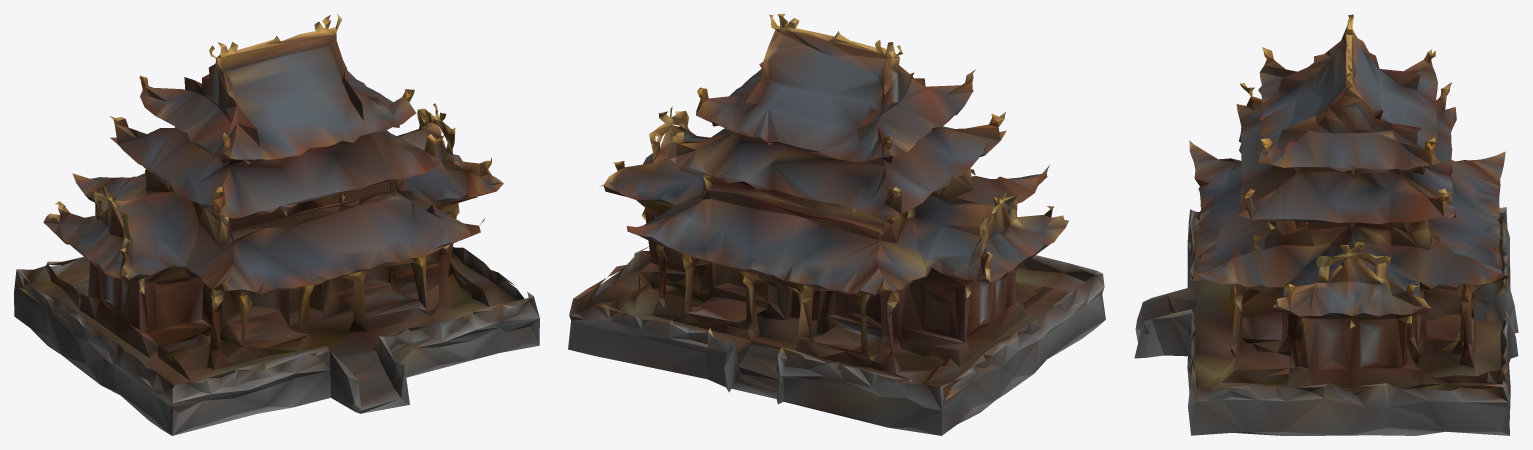
The model's file is bq_alchemy_hall.vc.glb.
3 renders of one model, left to right at view 1: azimuth 30°, elevation 25°; view 2: azimuth 150°, elevation 25°; view 3: azimuth 270°, elevation 25°, orthographic.
Visible parts, largest first — view 1: bq_alchemy_hall; view 2: bq_alchemy_hall; view 3: bq_alchemy_hall.
Boxes of the visible parts, x1,y1,x2,y2 form: bq_alchemy_hall: (14, 14, 539, 435); bq_alchemy_hall: (568, 14, 1105, 435); bq_alchemy_hall: (1134, 14, 1518, 435).
Bounding box in the file's own units: 1.9 × 1.43 × 1.64.
